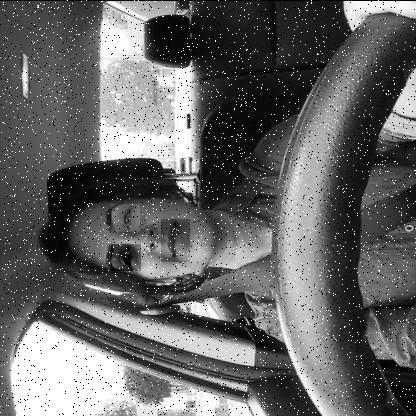seatbelt: (40, 180, 416, 307)
